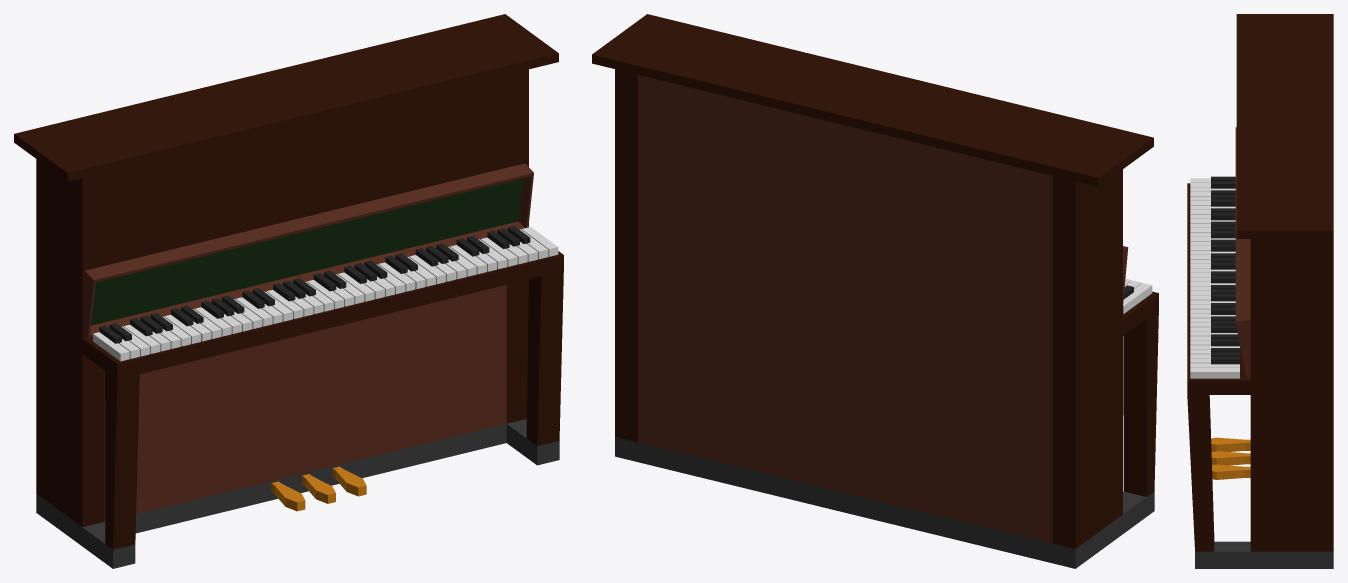
File: Piano.fbx
3 renders of one model, left to right at view 1: azimuth 30°, elevation 25°; view 2: azimuth 150°, elevation 25°; view 3: azimuth 270°, elevation 25°, orthographic. The views are drawn at different scales.
Parts seen in each view (by area): view 1: Piano, Piano Cover; view 2: Piano; view 3: Piano, Piano Cover, Right Pedal, Left Pedal, Centre Pedal.
Part boxes in pixels (x1,y1,x2,y2): Piano: [14, 14, 563, 568]; Piano Cover: [85, 163, 533, 338]; Piano: [592, 14, 1158, 568]; Piano: [1187, 14, 1333, 568]; Piano Cover: [1235, 127, 1250, 378]; Right Pedal: [1212, 464, 1250, 479]; Left Pedal: [1211, 437, 1250, 451]; Centre Pedal: [1211, 451, 1250, 465].
Bounding box in the file's own units: 1925 × 1440 × 549.
